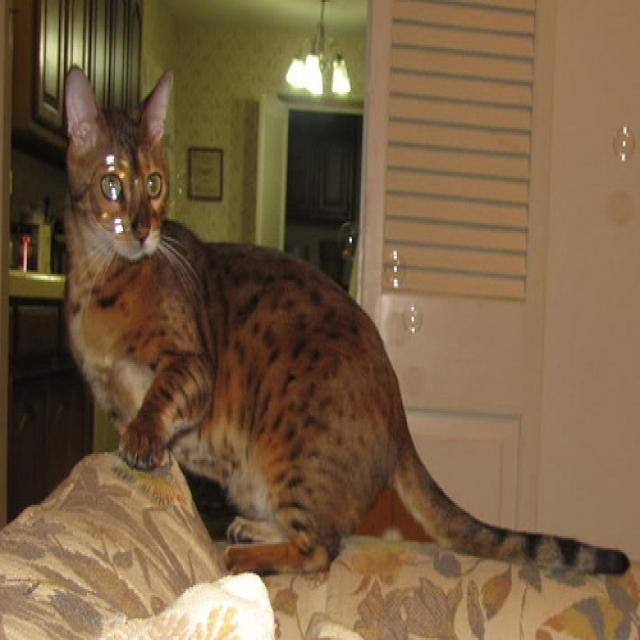Bengal: (62, 65, 179, 259)
